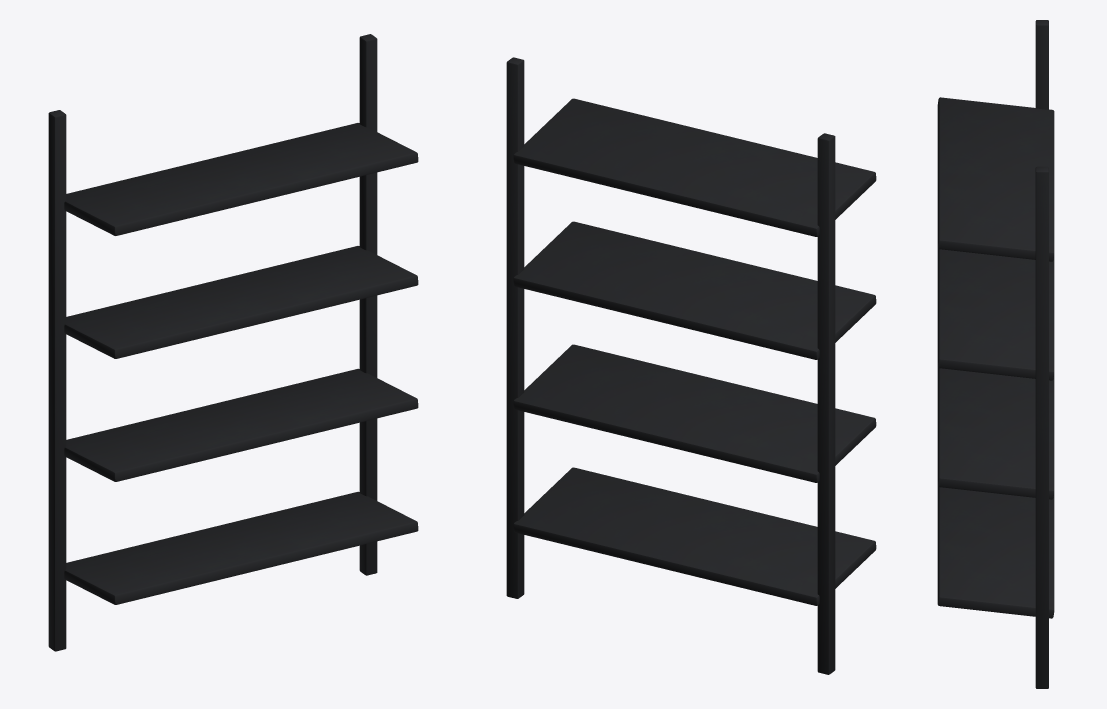
Rendered from pf_display_shoe_display_t1.glb.
3 views of the same model, side by side, from view 1: azimuth 30°, elevation 25°; view 2: azimuth 150°, elevation 25°; view 3: azimuth 270°, elevation 25° (orthographic). The views are drawn at different scales.
Visible parts, largest first — view 1: Angled_Shoe_Shelf_01, Angled_Shoe_Shelf_02, Angled_Shoe_Shelf_03, Angled_Shoe_Shelf_04, Post_-0.45, Post_+0.45; view 2: Angled_Shoe_Shelf_03, Angled_Shoe_Shelf_04, Angled_Shoe_Shelf_02, Angled_Shoe_Shelf_01, Post_-0.45, Post_+0.45; view 3: Angled_Shoe_Shelf_04, Angled_Shoe_Shelf_03, Angled_Shoe_Shelf_01, Angled_Shoe_Shelf_02, Post_+0.45, Post_-0.45.
Part boxes in pixels (x1,y1,x2,y2): Angled_Shoe_Shelf_01: [64, 491, 418, 604]; Angled_Shoe_Shelf_02: [64, 368, 418, 481]; Angled_Shoe_Shelf_03: [64, 246, 418, 358]; Angled_Shoe_Shelf_04: [64, 123, 418, 235]; Post_-0.45: [48, 110, 66, 651]; Post_+0.45: [359, 34, 377, 575]; Angled_Shoe_Shelf_03: [513, 221, 876, 359]; Angled_Shoe_Shelf_04: [513, 98, 876, 236]; Angled_Shoe_Shelf_02: [513, 344, 876, 482]; Angled_Shoe_Shelf_01: [513, 467, 876, 605]; Post_-0.45: [817, 133, 835, 674]; Post_+0.45: [506, 57, 524, 598]; Angled_Shoe_Shelf_04: [937, 97, 1054, 261]; Angled_Shoe_Shelf_03: [937, 248, 1054, 380]; Angled_Shoe_Shelf_01: [937, 486, 1054, 618]; Angled_Shoe_Shelf_02: [937, 367, 1054, 499]; Post_+0.45: [1035, 166, 1048, 688]; Post_-0.45: [1035, 20, 1048, 109].
Bounding box in the file's own units: 1 × 1.48 × 0.42.
2 materials, 1 textured.
